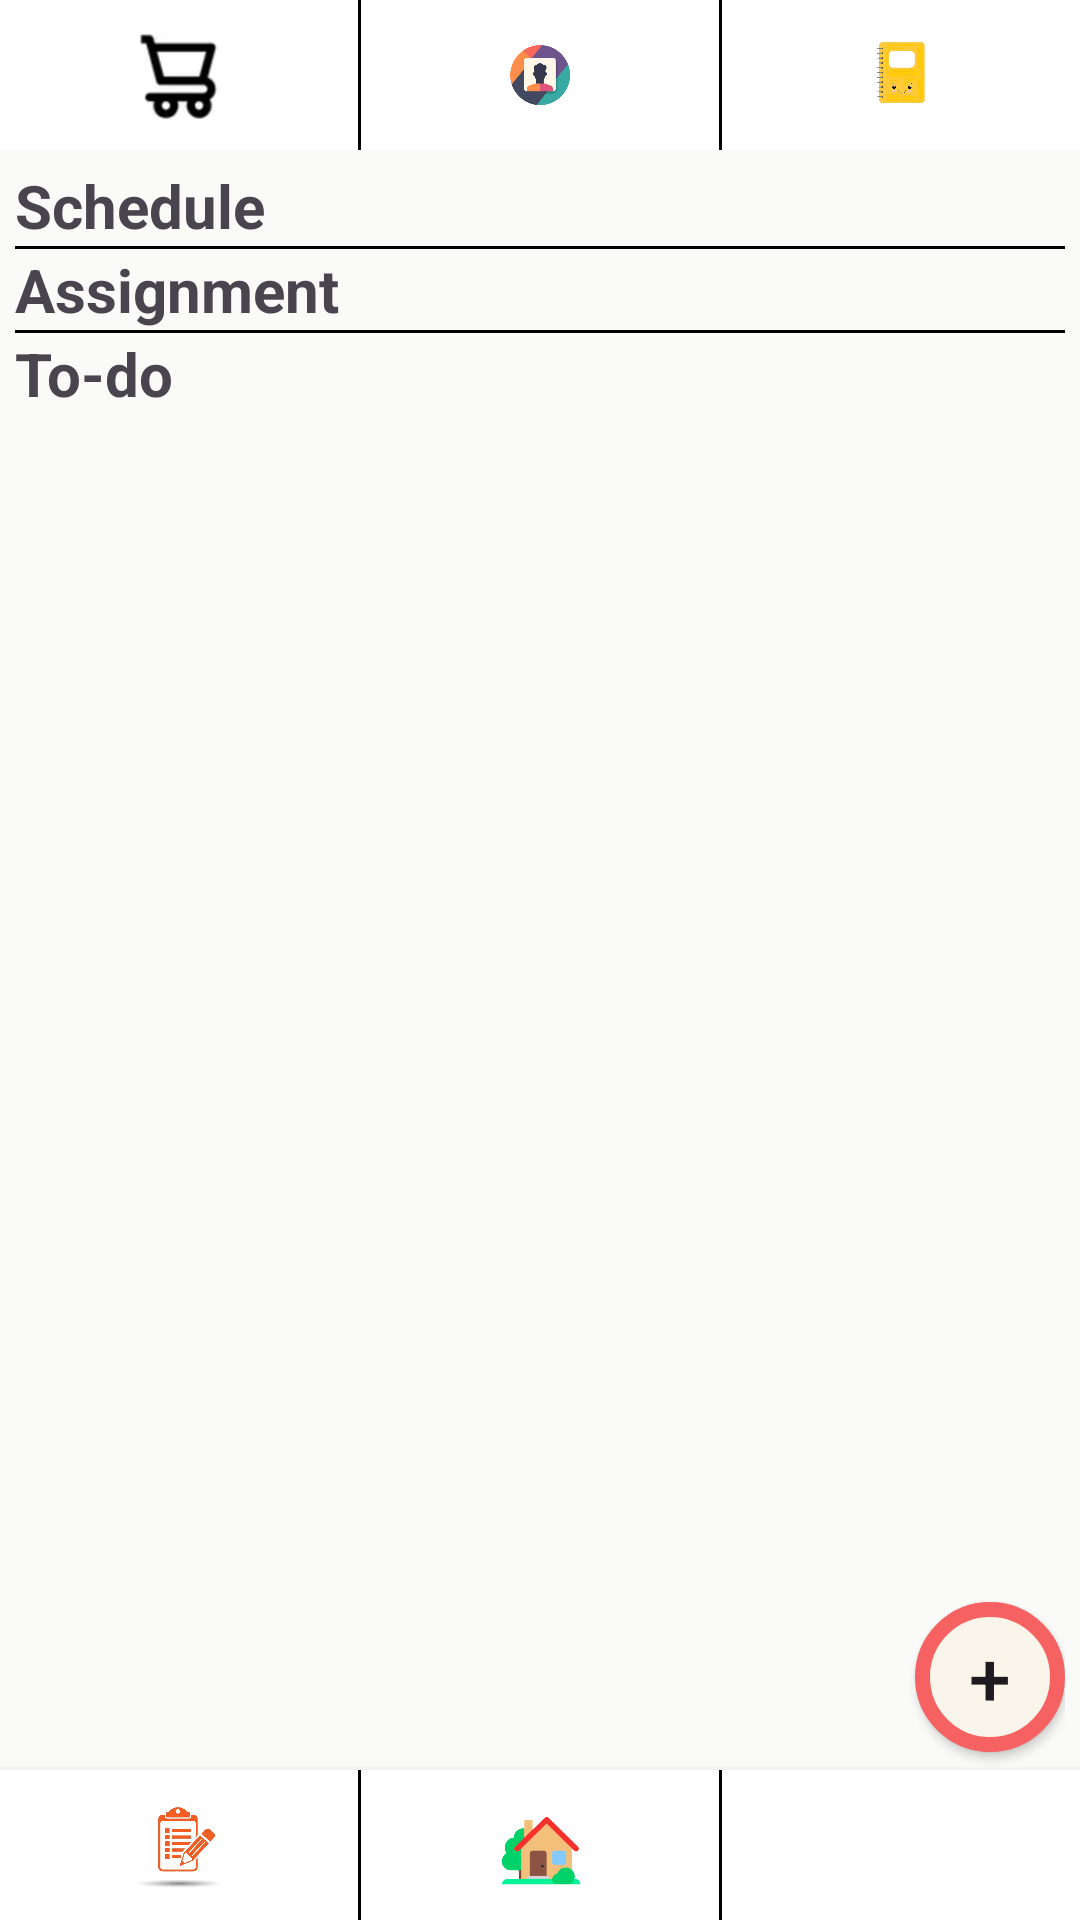

Where to tap for icons on this 1080px×1920px app screen, as (x,y):
drawbook: (901,72)
home: (541,1851)
profile: (540,75)
shop: (178,76)
todo: (181,1847)
